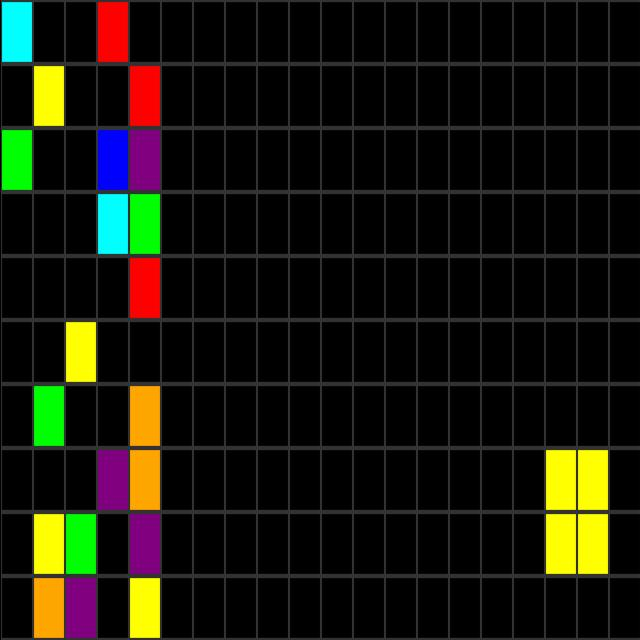Tetrimino_O: (546, 451, 608, 573)
